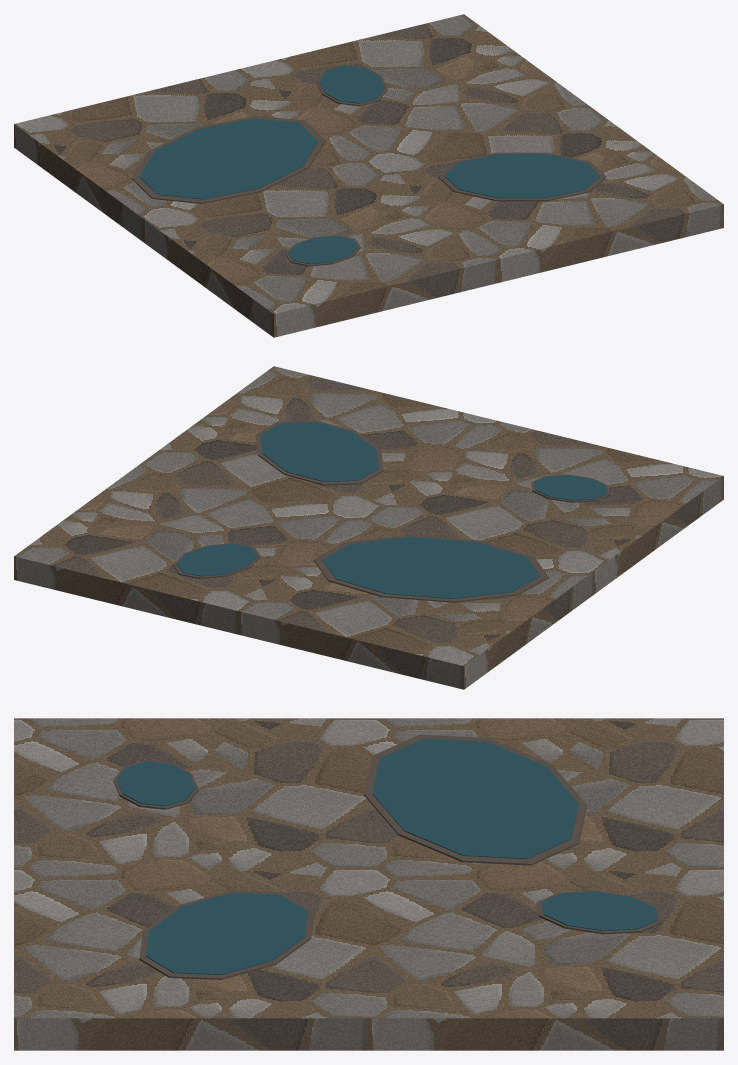
File: mine_floor_puddles.glb
The picture shows the model from 3 angles, top to bottom: view 1: azimuth 30°, elevation 25°; view 2: azimuth 150°, elevation 25°; view 3: azimuth 270°, elevation 25°; orthographic projection. The views are drawn at different scales.
Visible parts, largest first — view 1: mine_floor_puddles; view 2: mine_floor_puddles; view 3: mine_floor_puddles.
Boxes of the visible parts, x1,y1,x2,y2 form: mine_floor_puddles: [14, 14, 723, 337]; mine_floor_puddles: [14, 366, 723, 689]; mine_floor_puddles: [14, 718, 723, 1050].
Bounding box in the file's own units: 4 × 0.215 × 4.
Materials: 3 (1 with a texture image).
